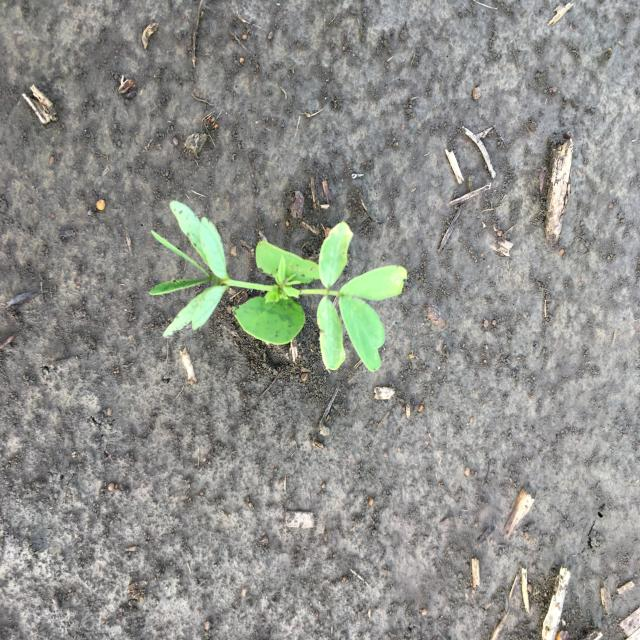Sicklepod: (146, 199, 409, 376)
